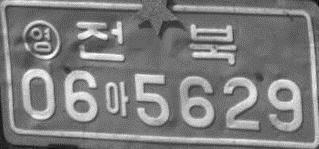0: (20, 67, 56, 121)
2: (222, 75, 261, 130)
5: (134, 72, 170, 127)
6: (178, 75, 214, 129), (63, 69, 98, 121)
9: (266, 78, 303, 133)
아: (104, 80, 129, 117)
영: (22, 19, 61, 60)
전북_D: (75, 20, 236, 66)
